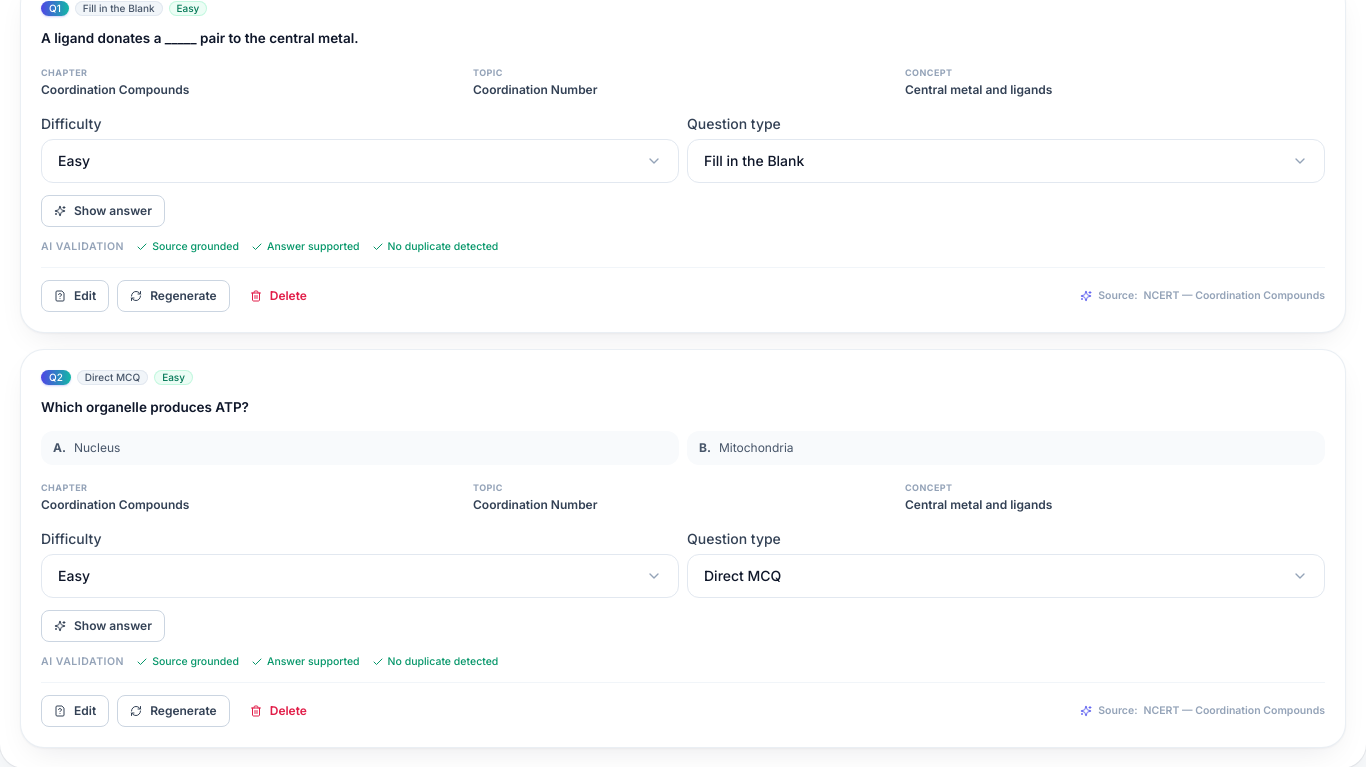
Test: micro-assessment question card presentation › keeps answer reveal state independent per question
(page scrolled)
Click the button "Show answer" below "Nucleus": (103, 626) [41,610,165,642]
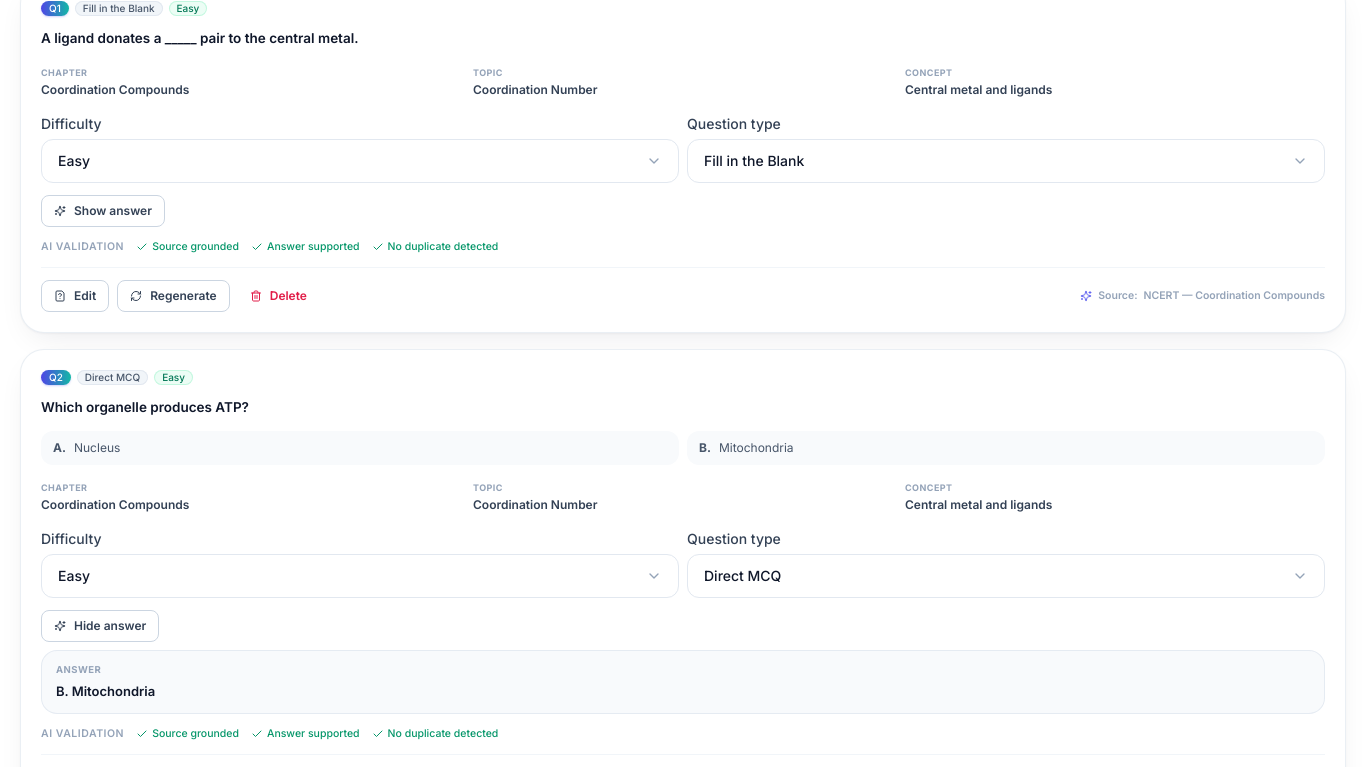
Expected: the text "B. Mitochondria" is shown, [687,431,1325,465]
Expected: the button "Hide answer" is expanded, [41,610,159,642]
